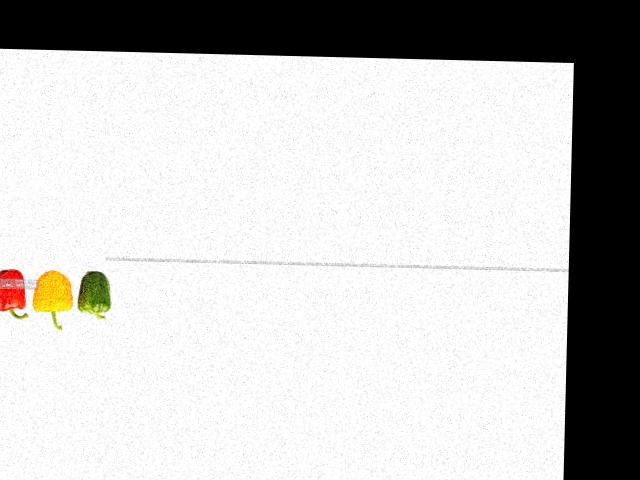bell_pepper: (78, 267, 116, 326)
